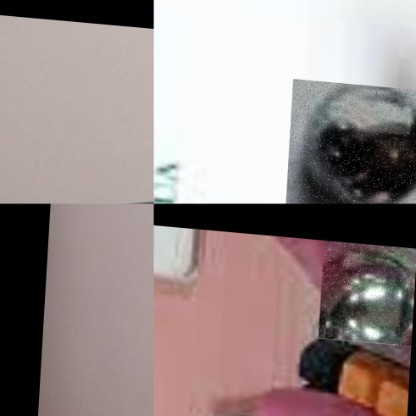ironball: (288, 75, 415, 203), (319, 235, 415, 340)
